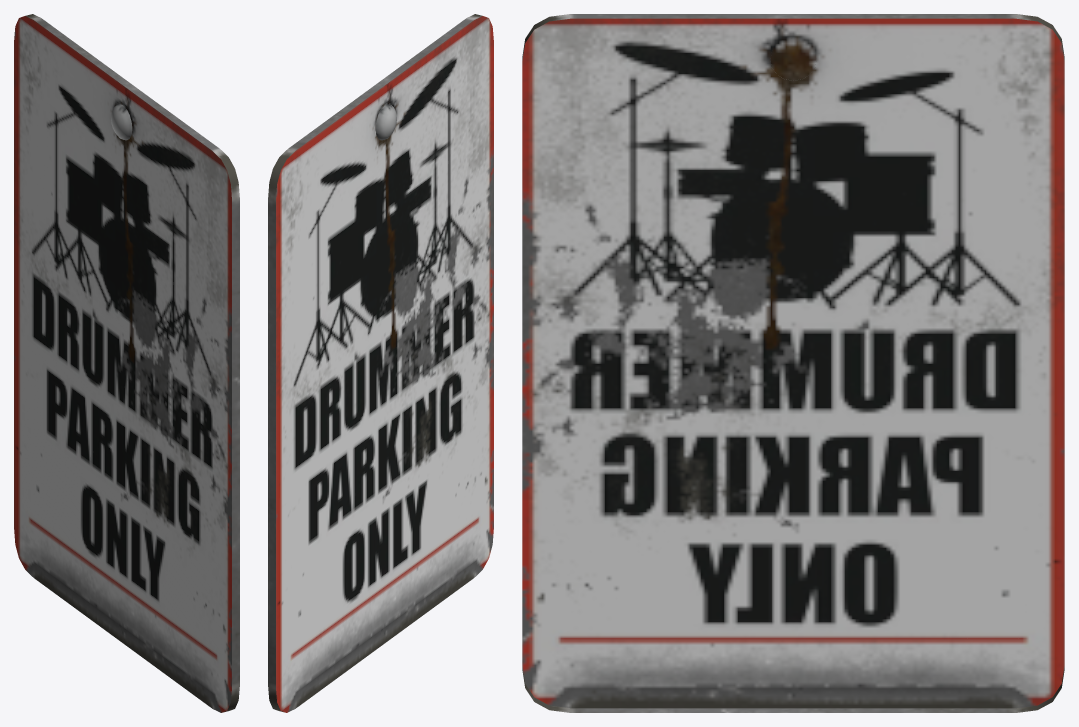
Rendered from Prop_TrafficSign_3.fbx.
3 renders of one model, left to right at view 1: azimuth 30°, elevation 25°; view 2: azimuth 150°, elevation 25°; view 3: azimuth 270°, elevation 25°, orthographic. The views are drawn at different scales.
Visible parts, largest first — view 1: Prop_TrafficSign_3; view 2: Prop_TrafficSign_3; view 3: Prop_TrafficSign_3.
Part boxes in pixels (x1,y1,x2,y2): Prop_TrafficSign_3: (14,14,239,712); Prop_TrafficSign_3: (268,14,493,712); Prop_TrafficSign_3: (522,14,1064,712).
Bounding box in the file's own units: 0.7033 × 23.95 × 16.96.
